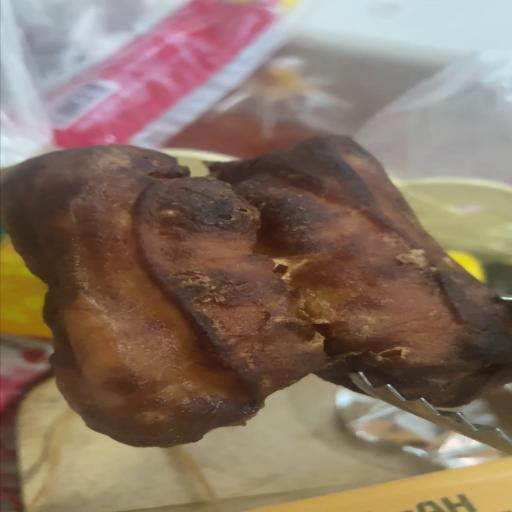street_burnt_defect: (0, 137, 511, 457)
